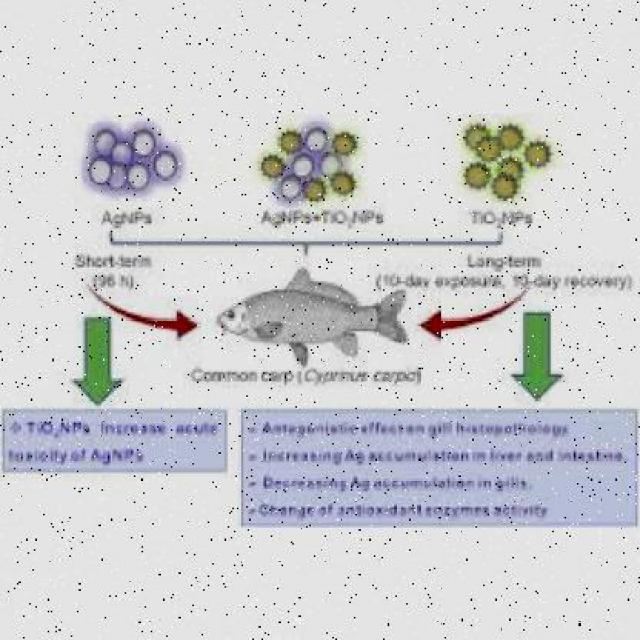ikan-mas: (203, 262, 412, 360)
